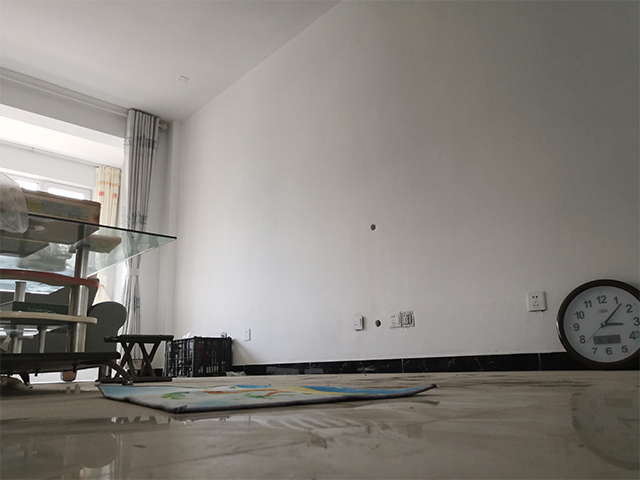carpet: (96, 381, 438, 415)
curtain: (117, 107, 160, 364)
stool: (102, 333, 176, 383)
table: (1, 208, 179, 389)
